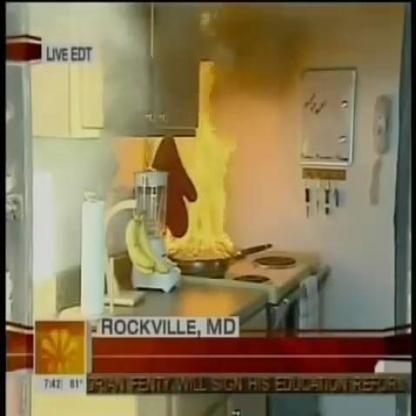fire: (152, 61, 238, 262)
